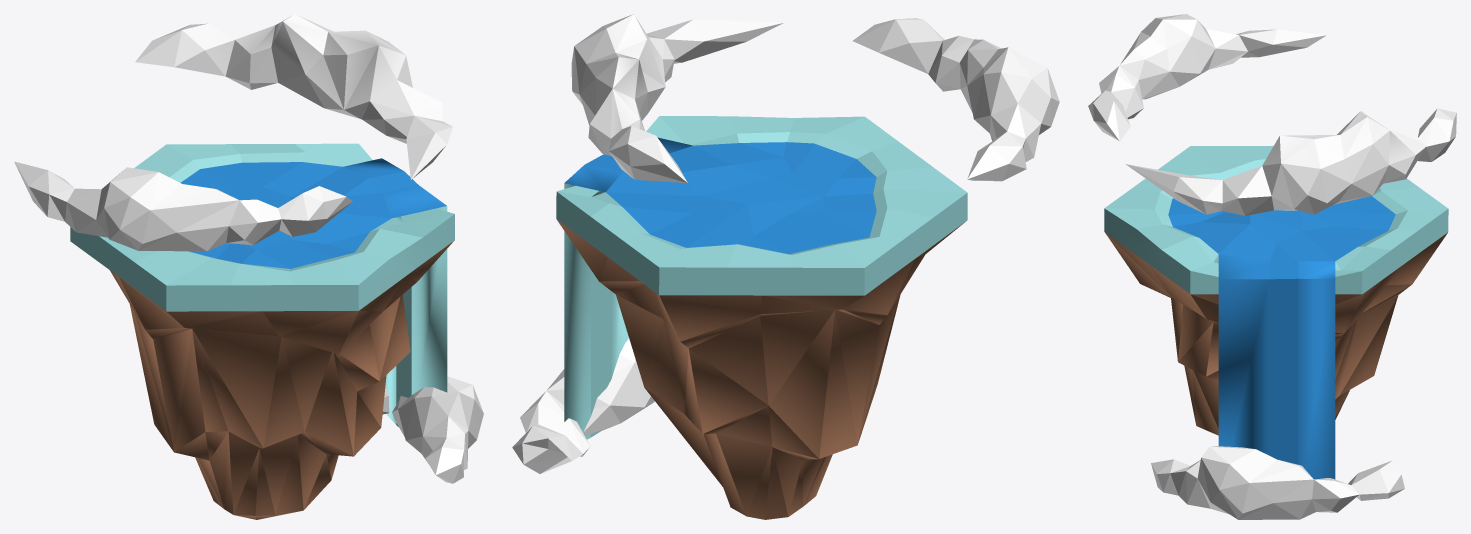
The model's file is agua(cachoeira,rio).fbx.
3 renders of one model, left to right at view 1: azimuth 30°, elevation 25°; view 2: azimuth 150°, elevation 25°; view 3: azimuth 270°, elevation 25°, orthographic. The views are drawn at different scales.
Visible parts, largest first — view 1: água (Cachoeira, rio); view 2: água (Cachoeira, rio); view 3: água (Cachoeira, rio).
Boxes of the visible parts, x1,y1,x2,y2 form: água (Cachoeira, rio): (14, 14, 483, 519); água (Cachoeira, rio): (512, 14, 1059, 519); água (Cachoeira, rio): (1088, 14, 1456, 519).
Bounding box in the file's own units: 1451 × 1453 × 1215.
